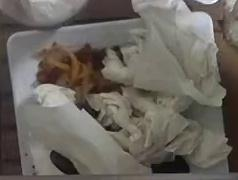pasta: (37, 43, 125, 106)
